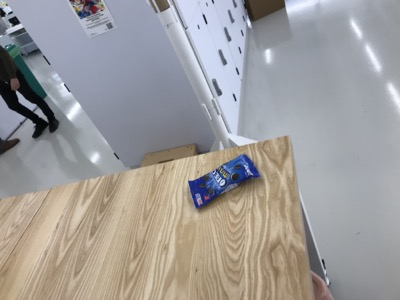oreo: (189, 151, 261, 210)
